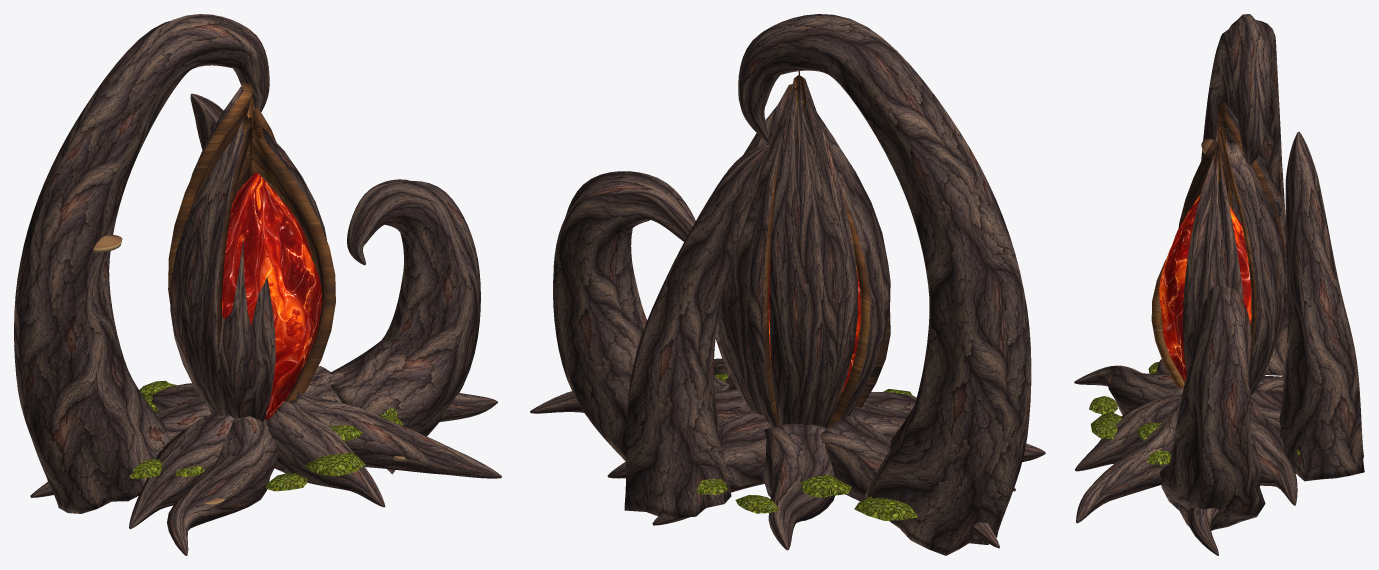
3 renders of one model, left to right at view 1: azimuth 30°, elevation 25°; view 2: azimuth 150°, elevation 25°; view 3: azimuth 270°, elevation 25°, orthographic. The views are drawn at different scales.
Visible parts, largest first — view 1: bitter-heart · evaluated preview mesh; view 2: bitter-heart · evaluated preview mesh; view 3: bitter-heart · evaluated preview mesh.
Boxes of the visible parts, box(x1,y1,x2,y2) form: bitter-heart · evaluated preview mesh: box(14, 14, 501, 555); bitter-heart · evaluated preview mesh: box(530, 14, 1045, 555); bitter-heart · evaluated preview mesh: box(1074, 14, 1364, 555).
Size of the model in its own units: 12.74 by 12.59 by 7.6.
Materials: 6 (4 with a texture image).
